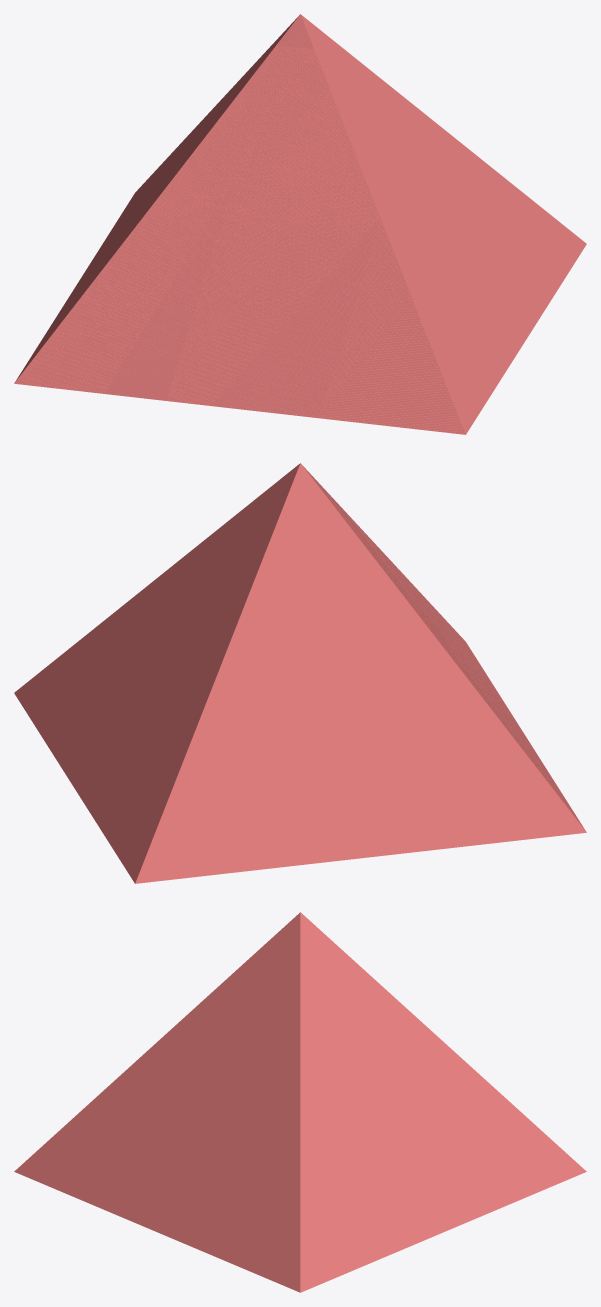
The picture shows the model from 3 angles, top to bottom: view 1: azimuth 30°, elevation 25°; view 2: azimuth 150°, elevation 25°; view 3: azimuth 270°, elevation 25°; orthographic projection. The views are drawn at different scales.
Visible parts, largest first — view 1: Cone; view 2: Cone; view 3: Cone.
Part boxes in pixels (x1,y1,x2,y2): Cone: (14,14,586,434); Cone: (14,463,586,883); Cone: (14,912,586,1292).
Size of the model in its own units: 3 by 1.5 by 3.
